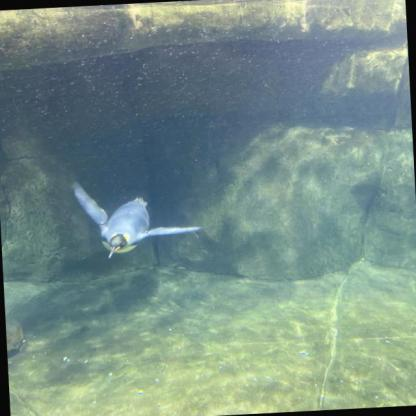penguin: (72, 175, 202, 261)
